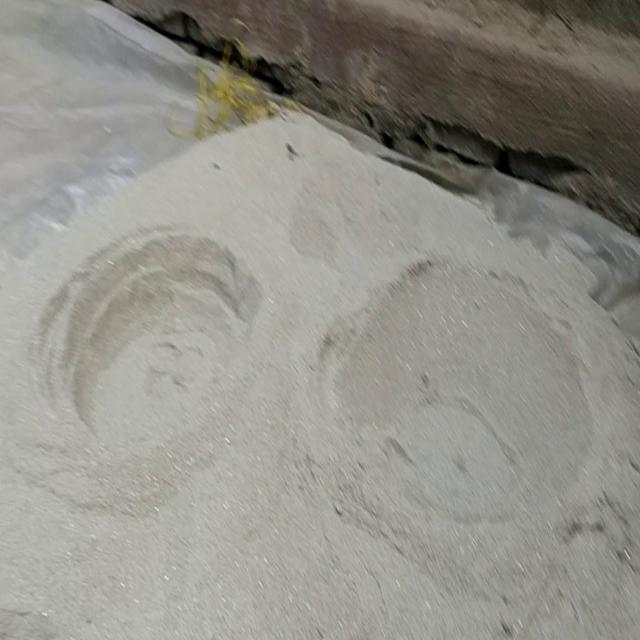C20: (320, 260, 591, 558), (42, 234, 255, 446)
